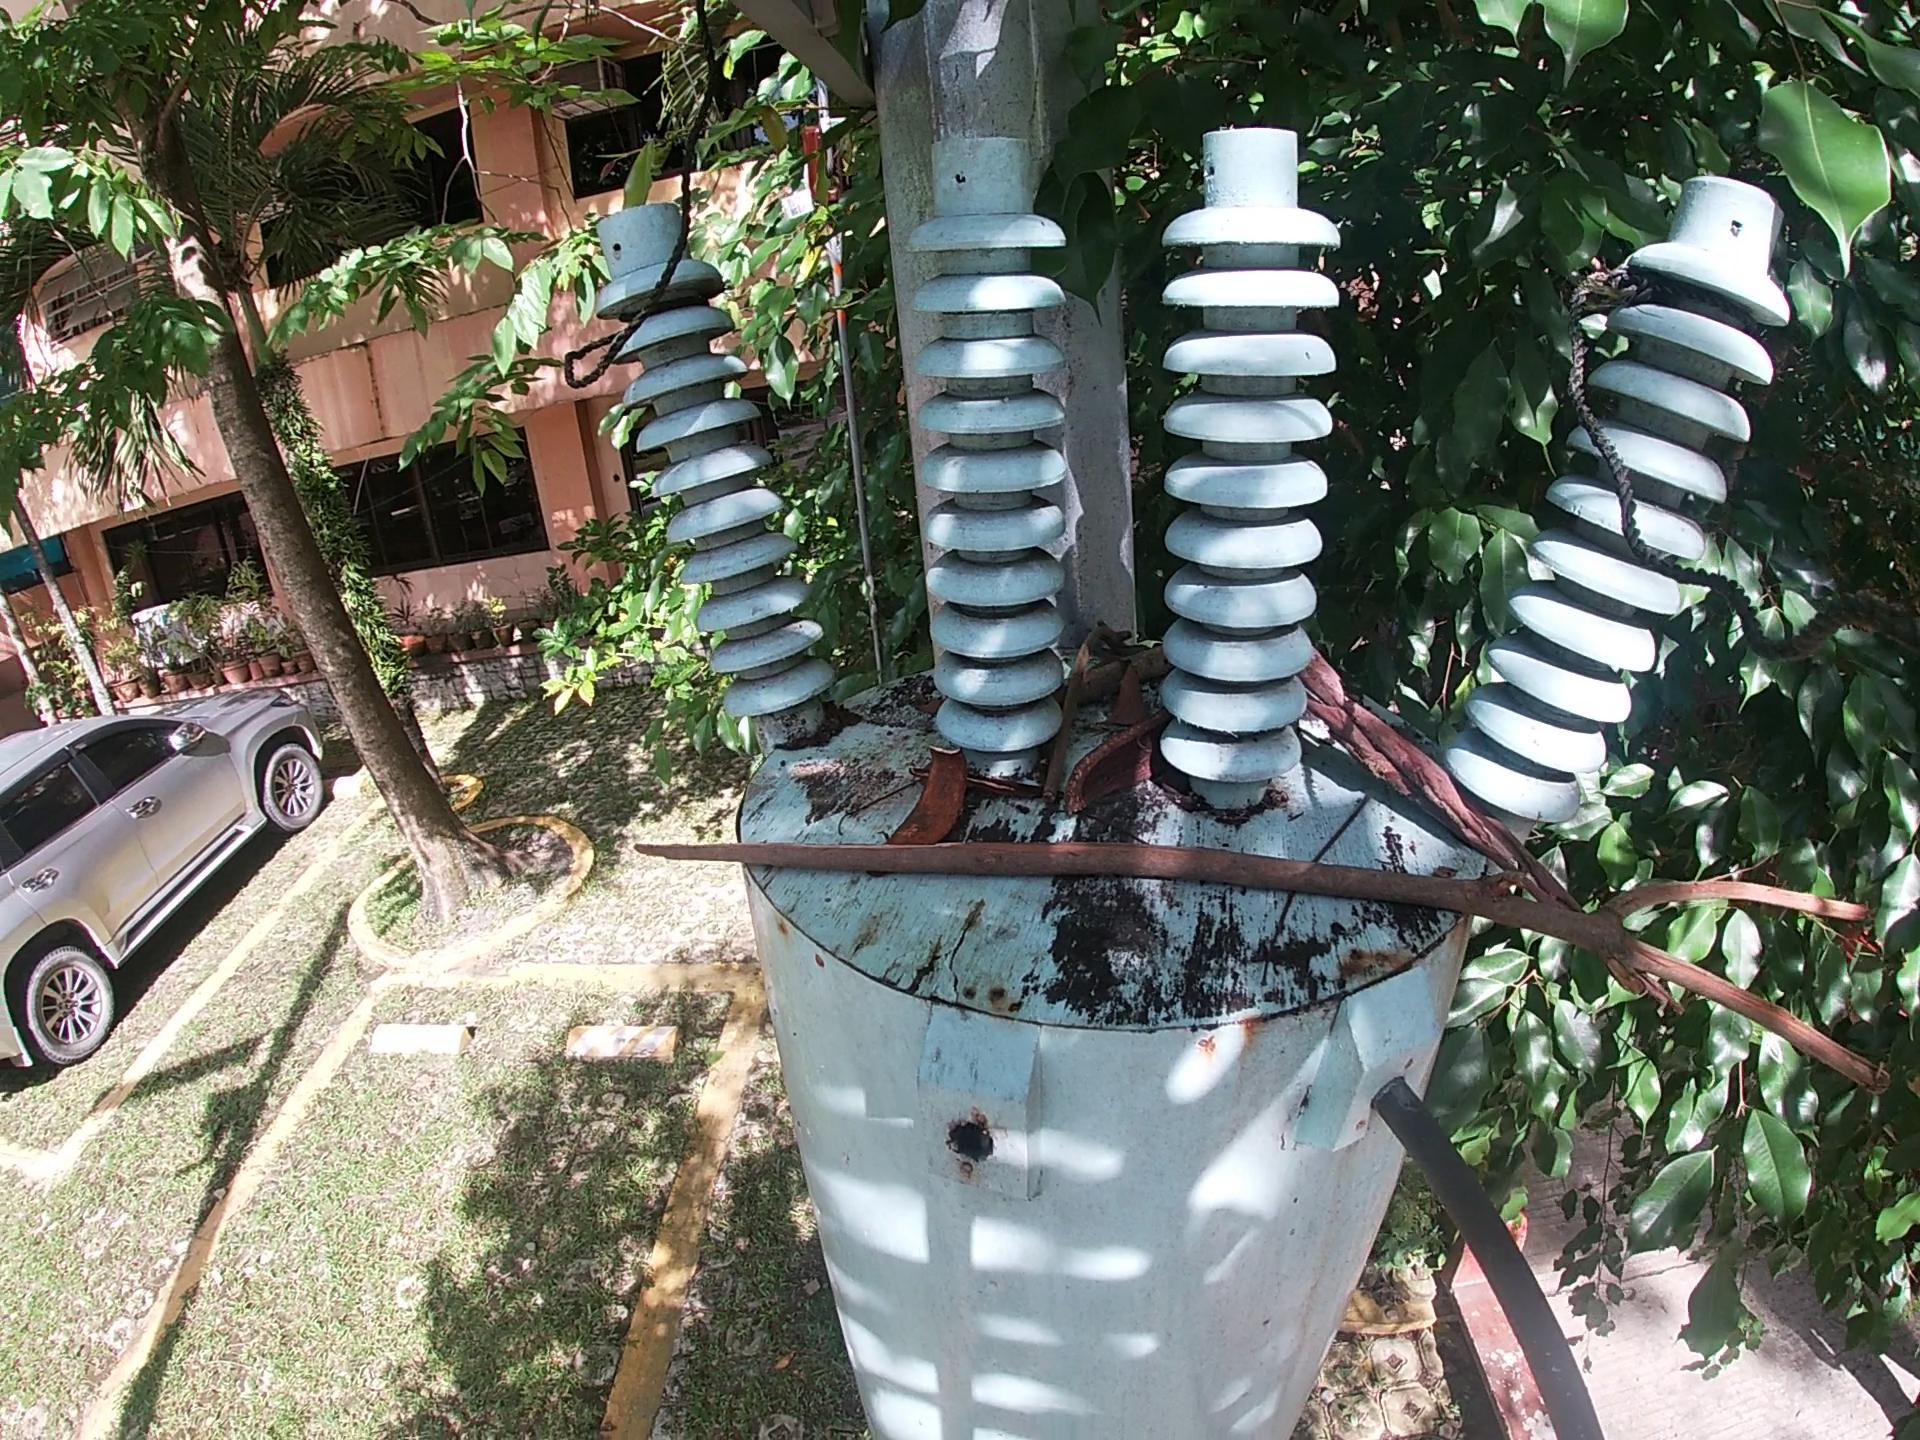leaf: (1116, 659, 1155, 735), (915, 697, 936, 725)
mahogany fruit: (1070, 725, 1181, 824), (871, 746, 971, 843)
tree branch: (617, 824, 1905, 1110), (1299, 646, 1586, 895), (1265, 784, 1386, 995), (1033, 611, 1102, 806), (1067, 643, 1181, 697), (825, 768, 909, 838), (977, 771, 1039, 796)
